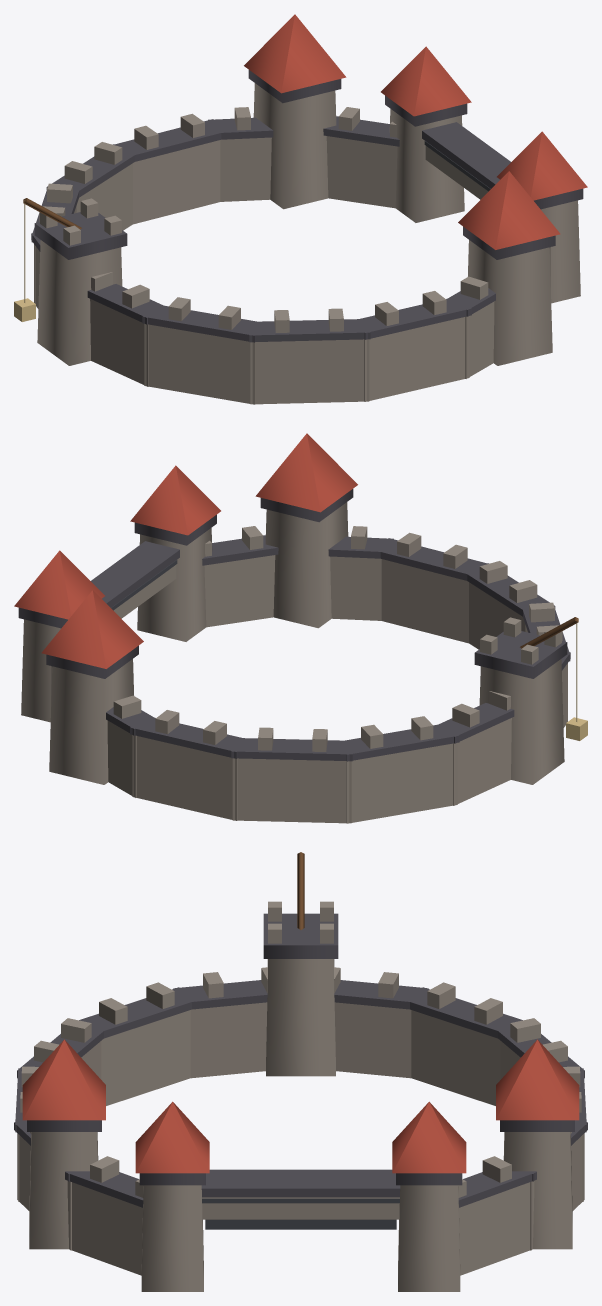
Rendered from base_builder_walls_2.glb.
3 views of the same model, one above another, from view 1: azimuth 30°, elevation 25°; view 2: azimuth 150°, elevation 25°; view 3: azimuth 270°, elevation 25° (orthographic). The views are drawn at different scales.
Parts seen in each view (by area): view 1: wall_8, tower_300_body, tower_60_body, wall_7, wall_9, tower_180_body, wall_2, gate_tower_n_body, wall_0, tower_60_roof, tower_300_roof, wall_6 (+26 smaller); view 2: wall_3, tower_60_body, tower_300_body, wall_4, wall_2, tower_180_body, wall_9, gate_tower_s_body, wall_11, tower_300_roof, tower_60_roof, wall_5 (+27 smaller); view 3: tower_180_body, gate_tower_n_body, gate_tower_s_body, wall_4, wall_7, tower_60_body, tower_300_body, gate_arch_cap, wall_5, wall_6, wall_0, wall_11 (+32 smaller).
Part boxes in pixels (x1,y1,x2,y2): wall_8: (250, 339, 369, 404); tower_300_body: (468, 240, 552, 365); tower_60_body: (253, 83, 336, 209); wall_7: (144, 324, 255, 404); wall_9: (364, 316, 469, 401); tower_180_body: (37, 240, 122, 365); wall_2: (133, 140, 220, 224); gate_tower_n_body: (389, 109, 464, 222); wall_0: (326, 136, 397, 208); tower_60_roof: (244, 14, 346, 93); tower_300_roof: (458, 171, 560, 249); wall_6: (90, 299, 148, 386); wall_3: (232, 758, 351, 823); tower_60_body: (49, 659, 133, 784); tower_300_body: (265, 502, 348, 628); wall_4: (346, 743, 457, 823); wall_2: (132, 735, 237, 820); tower_180_body: (479, 659, 564, 784); wall_9: (381, 559, 468, 643); gate_tower_s_body: (137, 528, 212, 641); wall_11: (204, 555, 275, 627); tower_300_roof: (255, 433, 357, 512); tower_60_roof: (41, 590, 143, 668); wall_5: (453, 718, 511, 805); tower_180_body: (266, 959, 335, 1076); gate_tower_n_body: (398, 1185, 460, 1291); gate_tower_s_body: (141, 1185, 203, 1291); wall_4: (411, 1010, 500, 1105); wall_7: (101, 1010, 190, 1105); tower_60_body: (503, 1132, 572, 1249); tower_300_body: (29, 1132, 98, 1249); gate_arch_cap: (201, 1169, 400, 1197); wall_5: (334, 1002, 411, 1078); wall_6: (190, 1002, 267, 1078); wall_0: (459, 1181, 534, 1275); wall_11: (67, 1181, 142, 1275).
Bounding box in the file's own units: 1.06 × 0.3628 × 0.9666.
